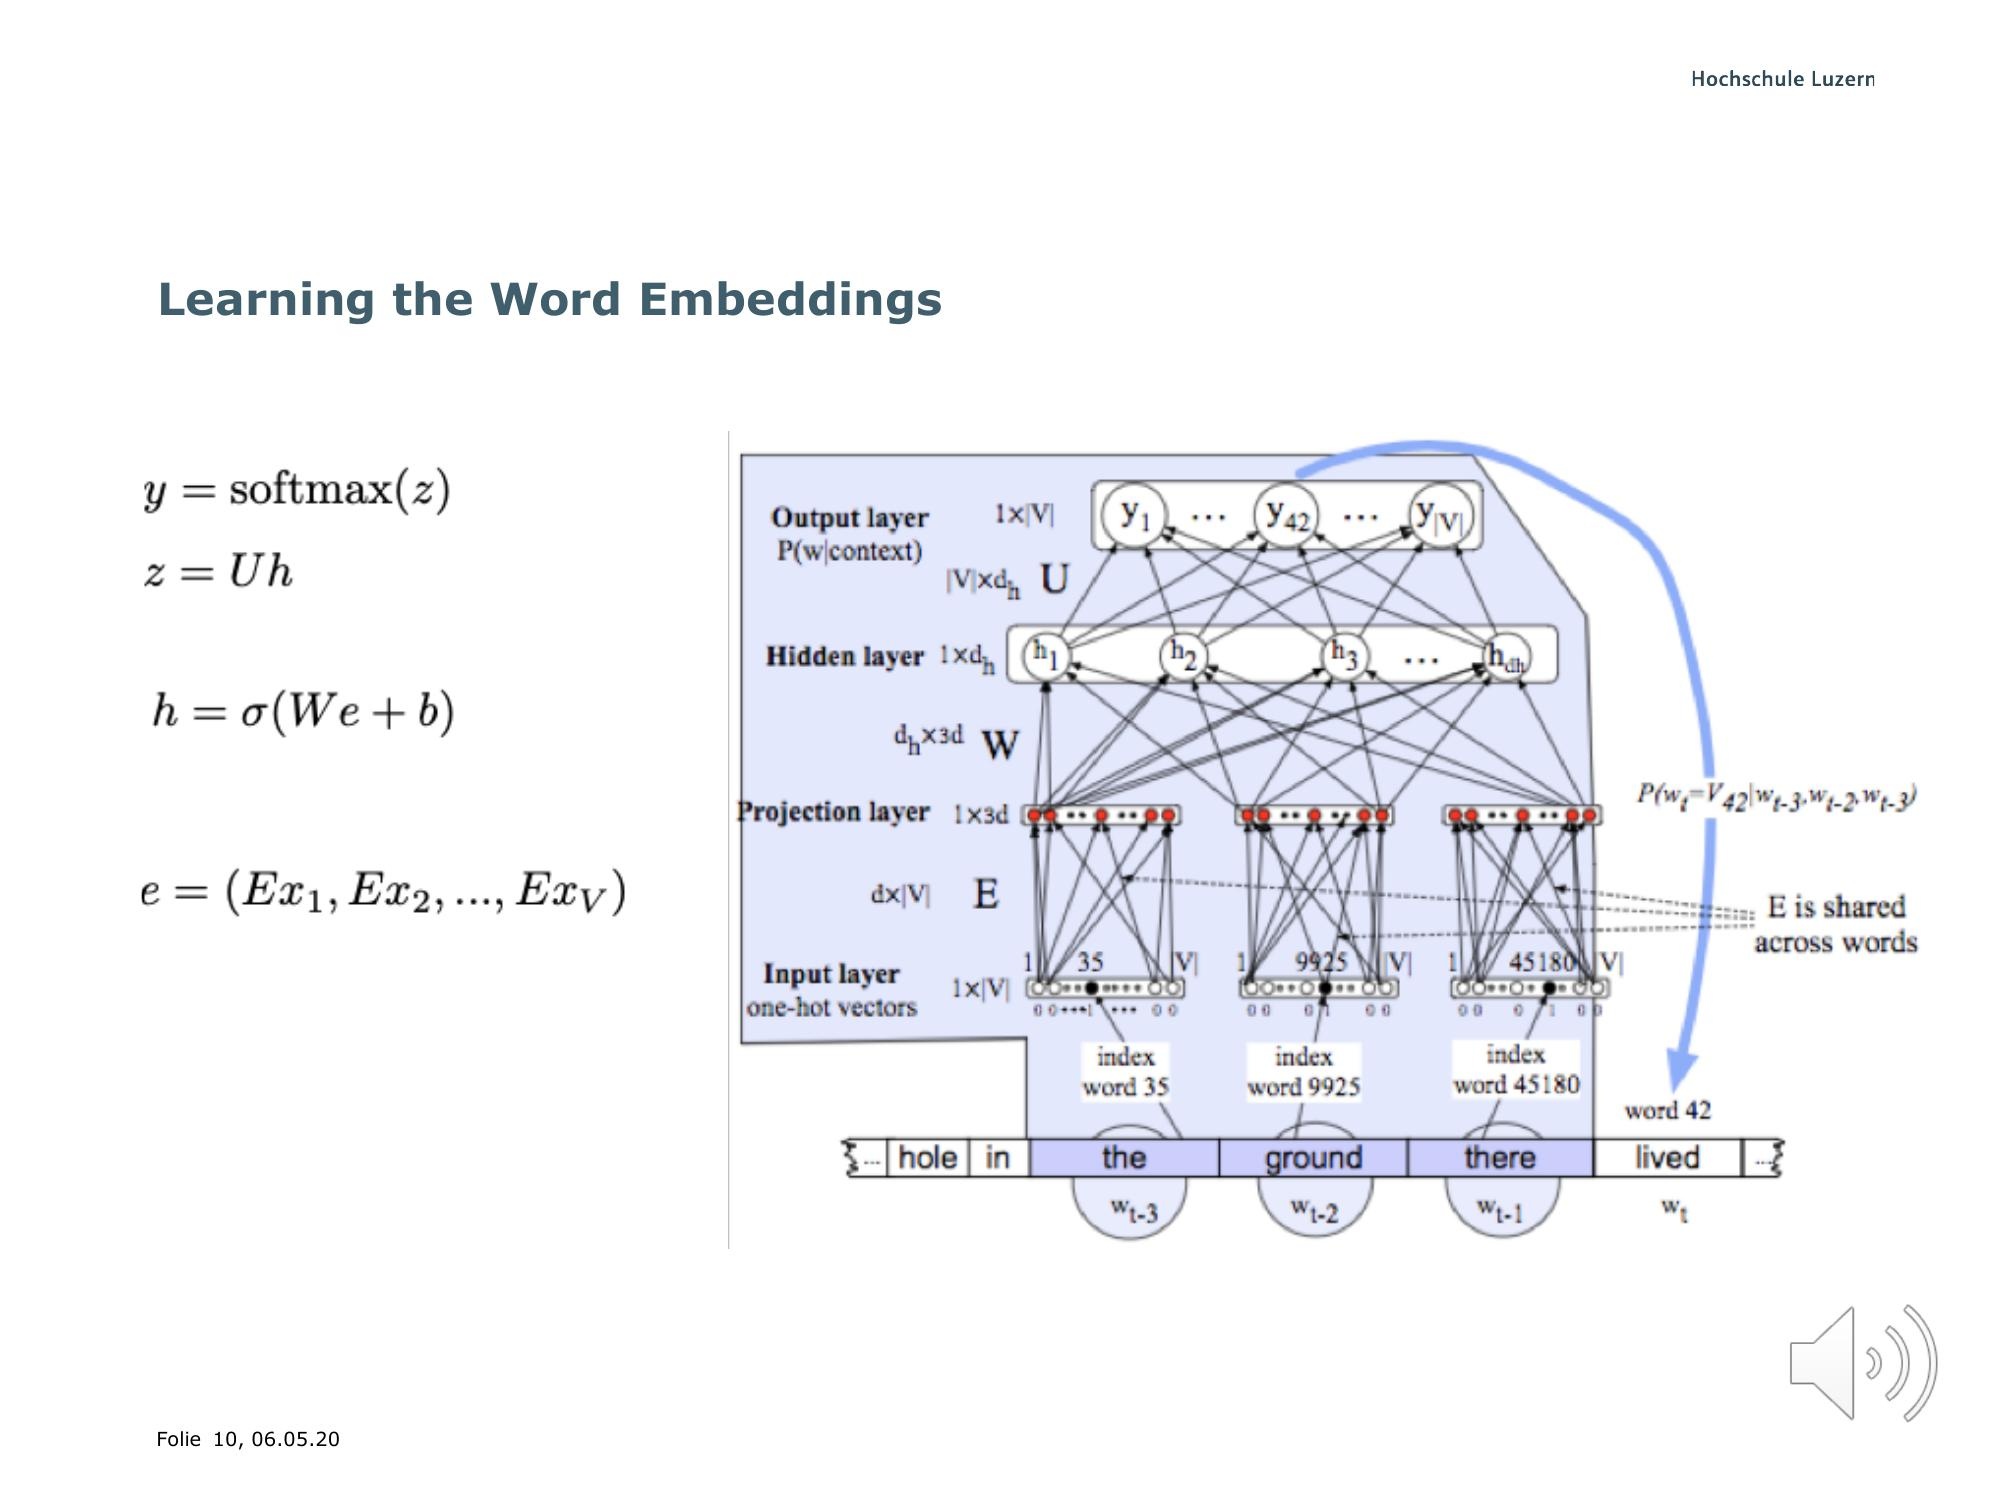Title: (143, 241, 950, 339)
